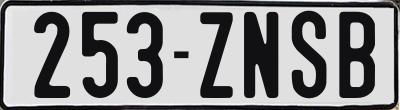2: (32, 9, 71, 97)
3: (125, 12, 161, 104)
5: (82, 11, 123, 100)
B: (337, 11, 378, 103)
N: (243, 11, 282, 97)
S: (292, 10, 326, 102)
Z: (199, 11, 235, 101)
